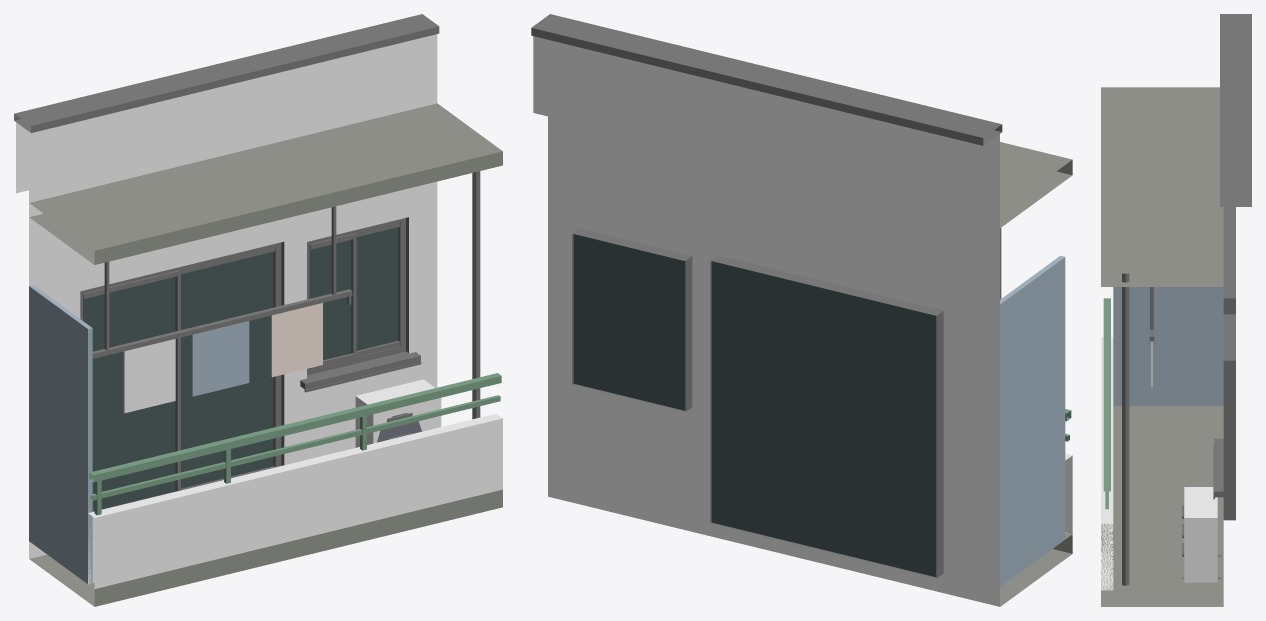
File: top-w1_close.fbx
3 renders of one model, left to right at view 1: azimuth 30°, elevation 25°; view 2: azimuth 150°, elevation 25°; view 3: azimuth 270°, elevation 25°, orthographic. The views are drawn at different scales.
Parts seen in each view (by area): view 1: a2006/250/top-w1_close; view 2: a2006/250/top-w1_close; view 3: a2006/250/top-w1_close.
Part boxes in pixels (x1,y1,x2,y2): a2006/250/top-w1_close: [14, 14, 502, 606]; a2006/250/top-w1_close: [531, 14, 1072, 606]; a2006/250/top-w1_close: [1101, 14, 1251, 606].
Bounding box in the file's own units: 3.6 × 3.66 × 1.23.
